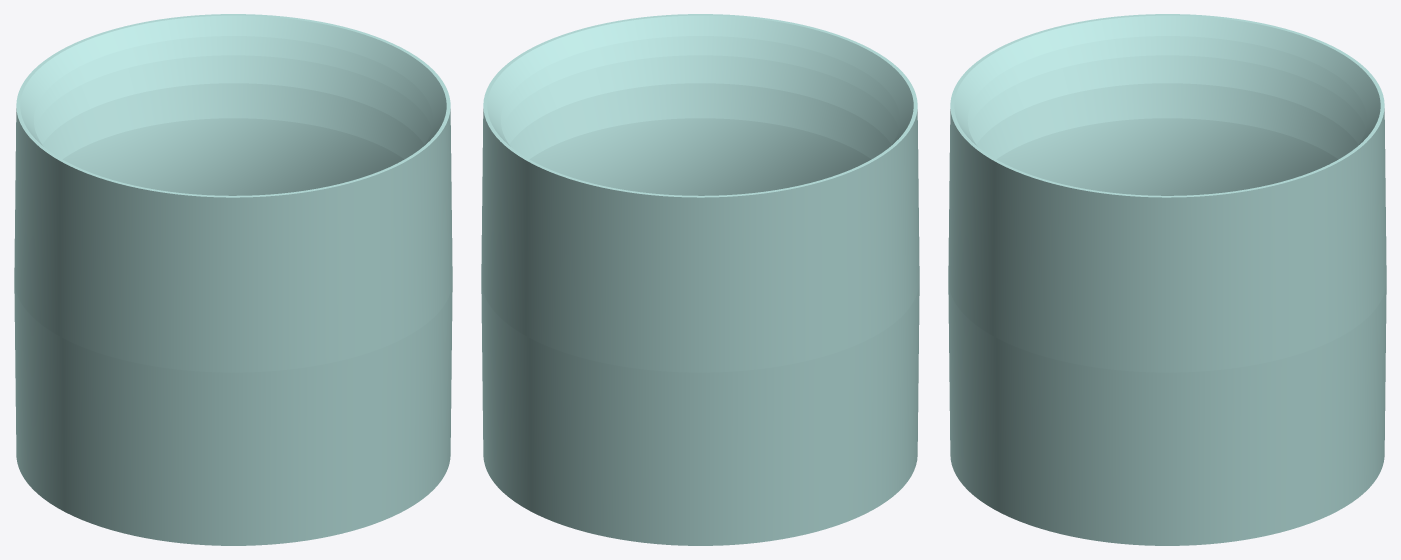
File: cylinder-fresnel.gltf
The picture shows the model from 3 angles, left to right: view 1: azimuth 30°, elevation 25°; view 2: azimuth 150°, elevation 25°; view 3: azimuth 270°, elevation 25°; orthographic projection.
Parts seen in each view (by area): view 1: mesh12_meshnode_12, mesh13_meshnode_13, mesh2_meshnode_2, mesh4_meshnode_4, mesh6_meshnode_6, mesh10_meshnode_10, mesh8_meshnode_8, mesh11_meshnode_11; view 2: mesh12_meshnode_12, mesh13_meshnode_13, mesh2_meshnode_2, mesh4_meshnode_4, mesh6_meshnode_6, mesh10_meshnode_10, mesh8_meshnode_8, mesh11_meshnode_11; view 3: mesh12_meshnode_12, mesh13_meshnode_13, mesh2_meshnode_2, mesh4_meshnode_4, mesh6_meshnode_6, mesh10_meshnode_10, mesh8_meshnode_8, mesh11_meshnode_11.
Part boxes in pixels (bbox=[...]): mesh12_meshnode_12: bbox=[14, 108, 452, 372]; mesh13_meshnode_13: bbox=[14, 283, 452, 545]; mesh2_meshnode_2: bbox=[62, 118, 404, 195]; mesh4_meshnode_4: bbox=[42, 83, 424, 159]; mesh6_meshnode_6: bbox=[35, 55, 431, 144]; mesh10_meshnode_10: bbox=[20, 15, 446, 146]; mesh8_meshnode_8: bbox=[34, 36, 432, 128]; mesh11_meshnode_11: bbox=[16, 14, 450, 197]; mesh12_meshnode_12: bbox=[481, 109, 919, 372]; mesh13_meshnode_13: bbox=[481, 284, 919, 545]; mesh2_meshnode_2: bbox=[529, 118, 871, 195]; mesh4_meshnode_4: bbox=[509, 83, 891, 159]; mesh6_meshnode_6: bbox=[502, 55, 898, 144]; mesh10_meshnode_10: bbox=[487, 15, 913, 146]; mesh8_meshnode_8: bbox=[501, 36, 900, 128]; mesh11_meshnode_11: bbox=[483, 14, 917, 197]; mesh12_meshnode_12: bbox=[948, 108, 1386, 372]; mesh13_meshnode_13: bbox=[948, 283, 1386, 545]; mesh2_meshnode_2: bbox=[996, 118, 1338, 195]; mesh4_meshnode_4: bbox=[976, 83, 1358, 159]; mesh6_meshnode_6: bbox=[969, 55, 1365, 144]; mesh10_meshnode_10: bbox=[954, 15, 1380, 146]; mesh8_meshnode_8: bbox=[967, 36, 1367, 128]; mesh11_meshnode_11: bbox=[950, 14, 1384, 197].
Size of the model in its own units: 0.5537 by 0.4857 by 0.5538.
